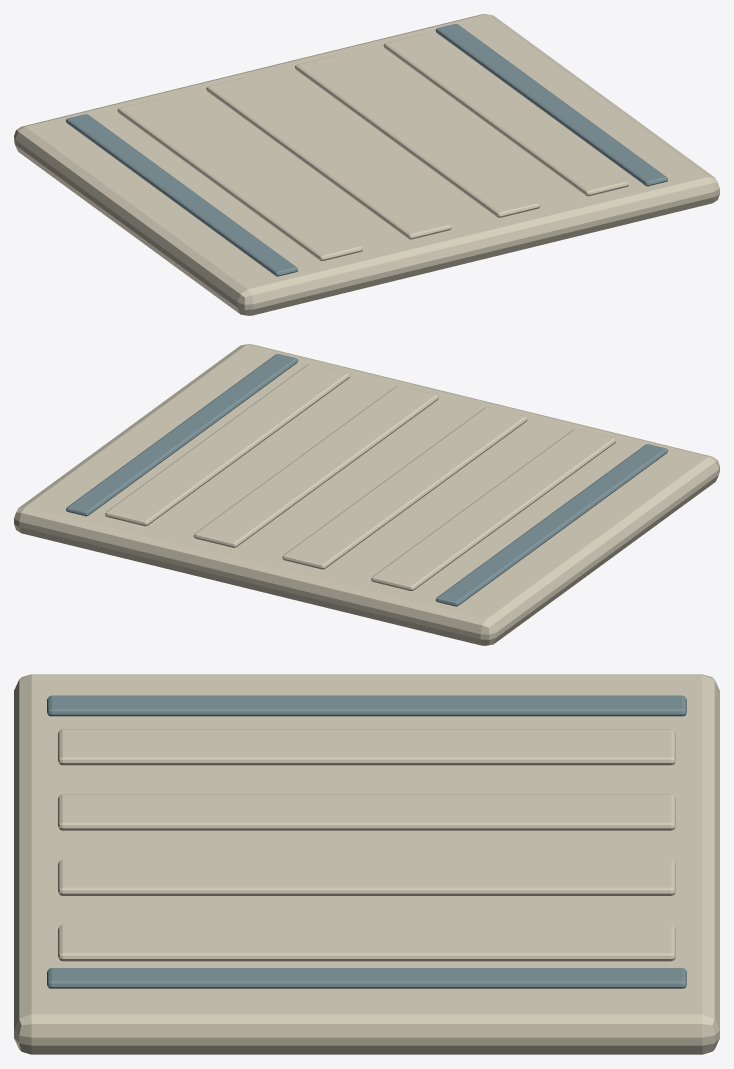
Rendered from bar-cloth.glb.
3 views of the same model, one above another, from view 1: azimuth 30°, elevation 25°; view 2: azimuth 150°, elevation 25°; view 3: azimuth 270°, elevation 25° (orthographic). The views are drawn at different scales.
Parts seen in each view (by area): view 1: folded wiping cloth, cloth border; view 2: folded wiping cloth, cloth border; view 3: folded wiping cloth, cloth border.
Boxes of the visible parts, x1=… form: folded wiping cloth: x1=14, y1=14, x2=719, y2=315; cloth border: x1=66, y1=24, x2=667, y2=276; folded wiping cloth: x1=14, y1=344, x2=719, y2=645; cloth border: x1=66, y1=354, x2=667, y2=606; folded wiping cloth: x1=14, y1=674, x2=719, y2=1054; cloth border: x1=47, y1=695, x2=686, y2=988.
Size of the model in its own units: 0.19 by 0.012 by 0.16.
